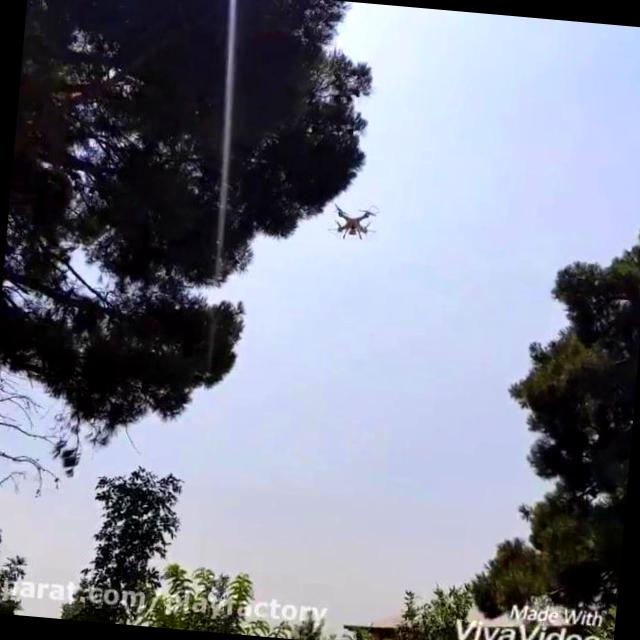drone: (324, 198, 382, 242)
